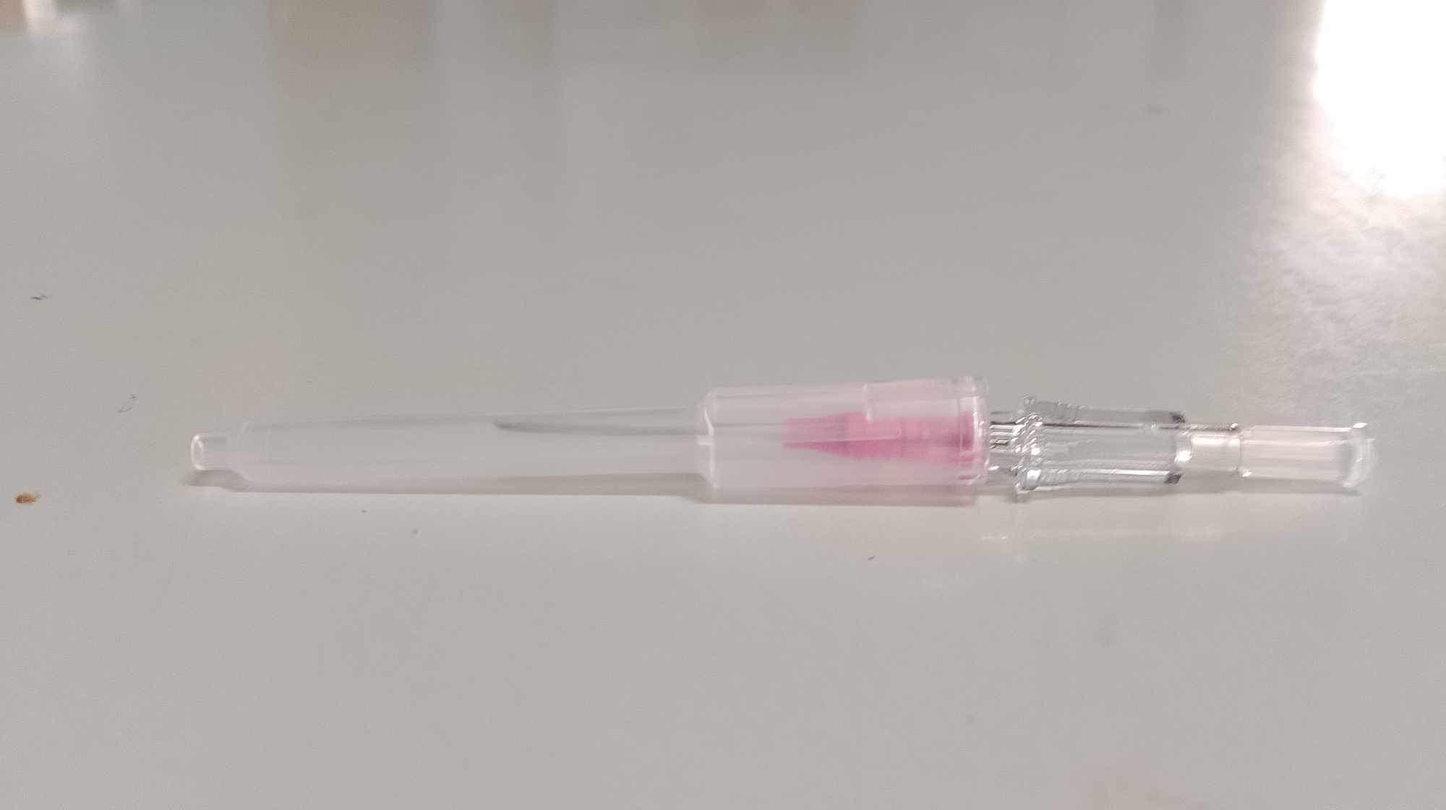General: (987, 394, 1377, 502), (696, 372, 993, 499)
Sharps: (187, 372, 1376, 503)
